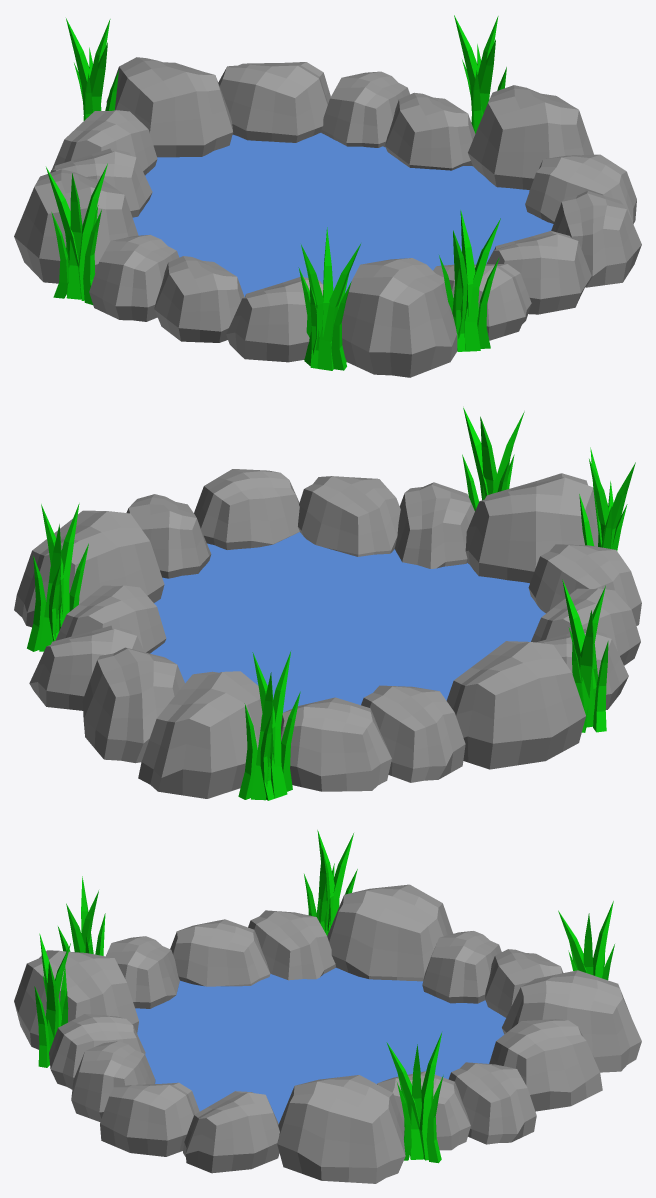
Rendered from pond.glb.
3 renders of one model, top to bottom at view 1: azimuth 30°, elevation 25°; view 2: azimuth 150°, elevation 25°; view 3: azimuth 270°, elevation 25°, orthographic. The views are drawn at different scales.
Visible parts, largest first — view 1: Pond; view 2: Pond; view 3: Pond.
Part boxes in pixels (x1=…): Pond: x1=14, y1=15, x2=641, y2=377; Pond: x1=14, y1=407, x2=641, y2=800; Pond: x1=14, y1=830, x2=641, y2=1183.
Bounding box in the file's own units: 7.97 × 1.83 × 8.76.
